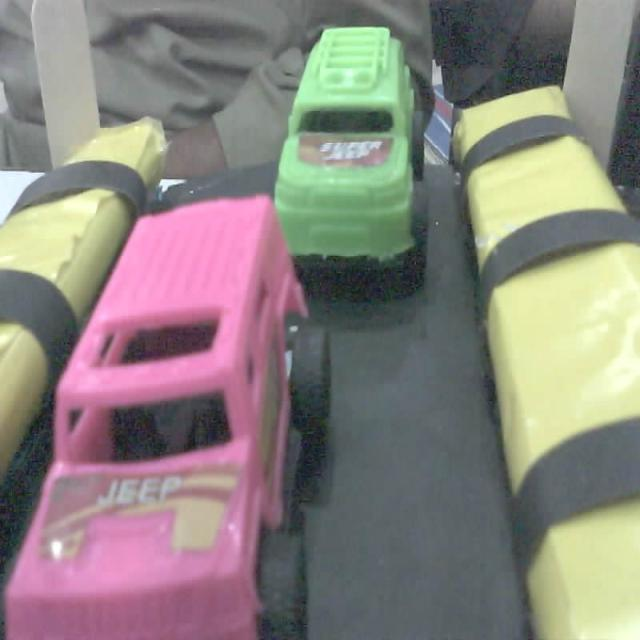TwoCar: (5, 197, 329, 639), (0, 202, 318, 640), (292, 27, 451, 296), (275, 27, 425, 283)
